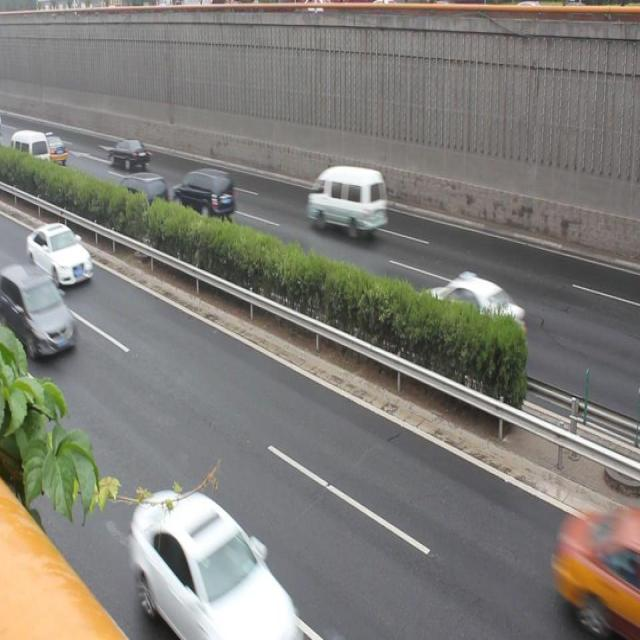car: (130, 489, 295, 640), (420, 267, 529, 356), (1, 261, 79, 367), (25, 219, 95, 289), (118, 168, 170, 215)
truck: (305, 167, 389, 234), (176, 164, 234, 218)
